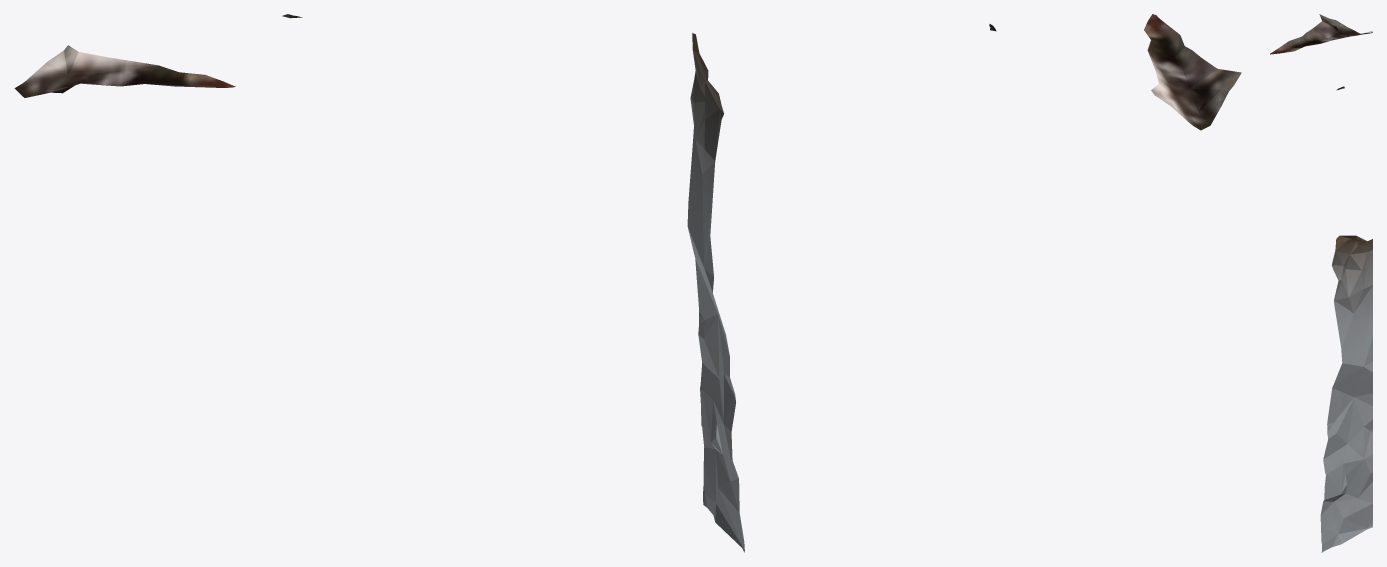
3 views of the same model, side by side, from view 1: azimuth 30°, elevation 25°; view 2: azimuth 150°, elevation 25°; view 3: azimuth 270°, elevation 25° (orthographic). The views are drawn at different scales.
Bounding box in the file's own units: 0.8373 × 0.8373 × 0.2125.
Materials: 1 (1 with a texture image).
